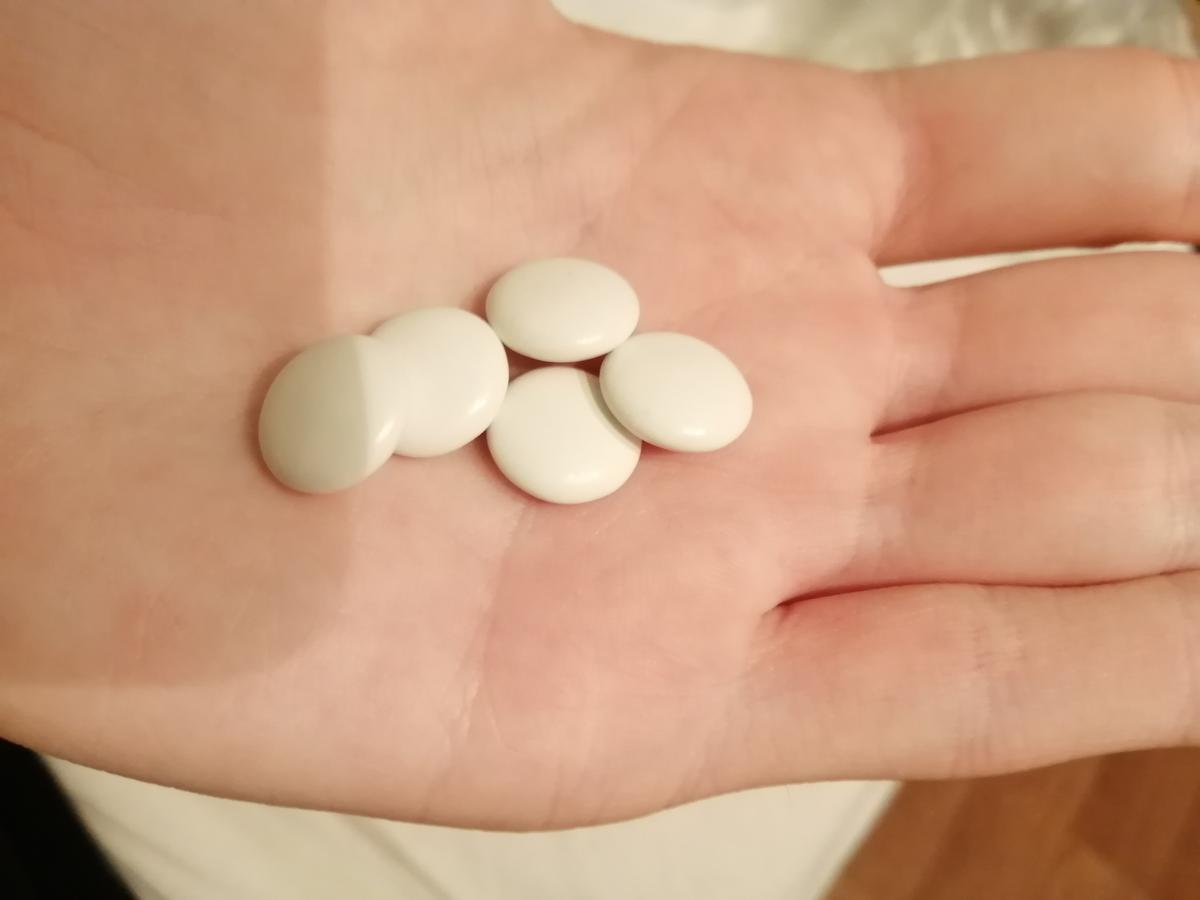tablet: (257, 330, 405, 497), (488, 364, 645, 504), (366, 305, 509, 453), (600, 325, 759, 451), (487, 248, 641, 367)
